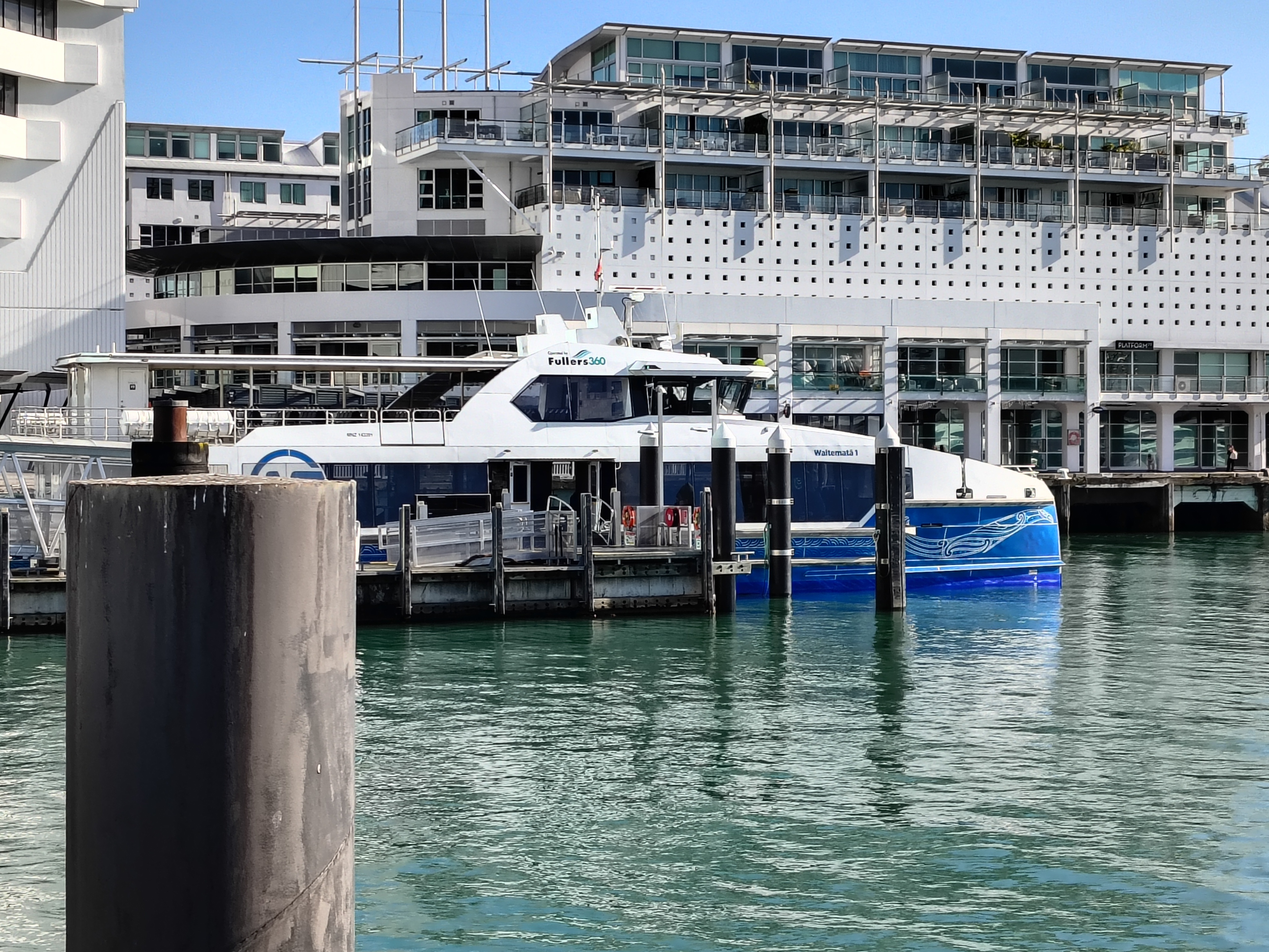ferry: (209, 294, 1062, 600)
